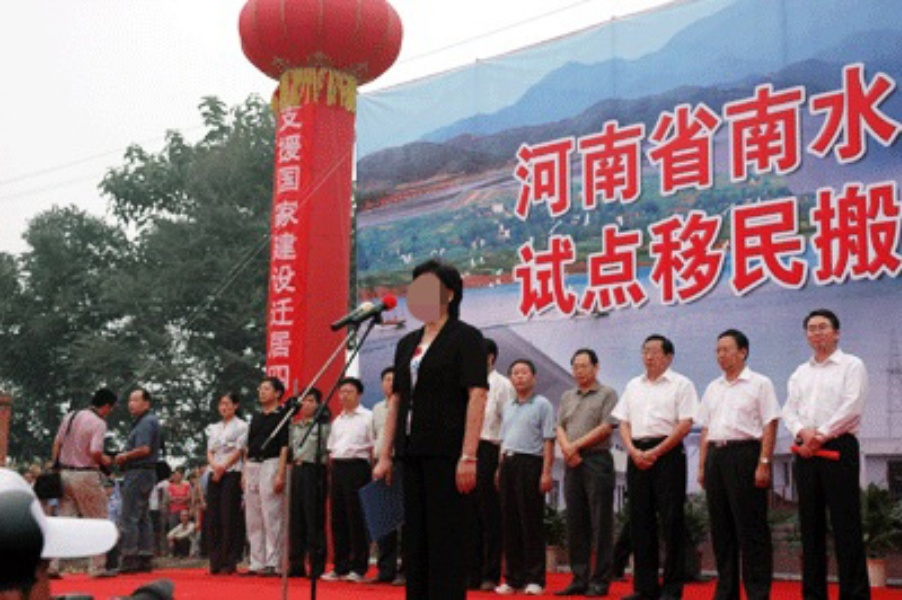text: (289, 104, 305, 393), (278, 104, 288, 393), (513, 52, 528, 231), (529, 52, 544, 231), (545, 52, 560, 231), (561, 52, 576, 231), (577, 52, 592, 231), (593, 52, 608, 231), (609, 52, 624, 231), (625, 52, 640, 231), (641, 52, 656, 231), (657, 52, 672, 231), (673, 52, 688, 231), (689, 52, 704, 231), (705, 52, 720, 231), (721, 52, 736, 231), (737, 52, 752, 231), (753, 52, 768, 231), (769, 52, 784, 231), (785, 52, 800, 231), (801, 52, 816, 231), (817, 52, 832, 231), (833, 52, 848, 231), (849, 52, 864, 231), (865, 52, 880, 231), (881, 52, 896, 231), (513, 172, 528, 323), (529, 172, 544, 323), (545, 172, 560, 323), (561, 172, 576, 323), (577, 172, 592, 323), (593, 172, 608, 323), (609, 172, 624, 323), (625, 172, 640, 323), (641, 172, 656, 323), (657, 172, 672, 323), (673, 172, 688, 323), (689, 172, 704, 323), (705, 172, 720, 323), (721, 172, 736, 323), (737, 172, 752, 323), (753, 172, 768, 323), (769, 172, 784, 323), (785, 172, 800, 323), (801, 172, 816, 323), (817, 172, 832, 323), (833, 172, 848, 323), (849, 172, 864, 323), (865, 172, 880, 323), (881, 172, 896, 323), (508, 52, 512, 231), (897, 52, 900, 231), (897, 172, 900, 323), (510, 172, 512, 323)
